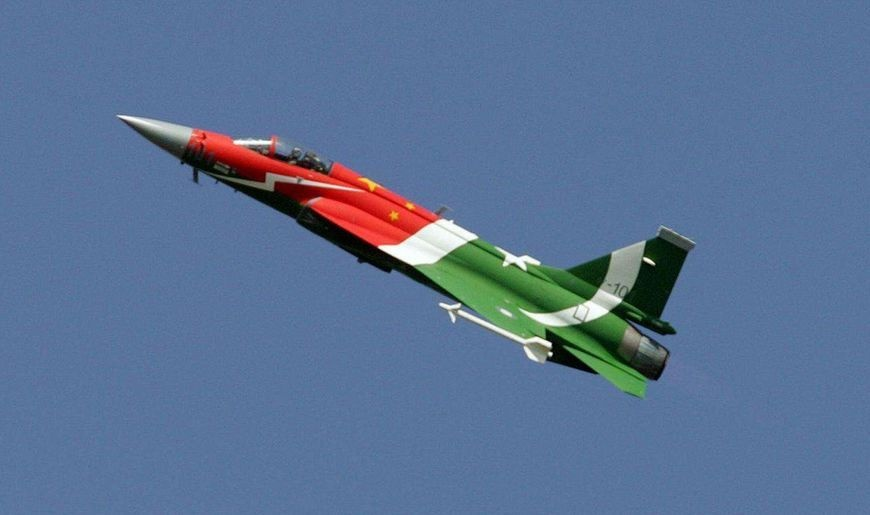airplane: (111, 104, 702, 401)
